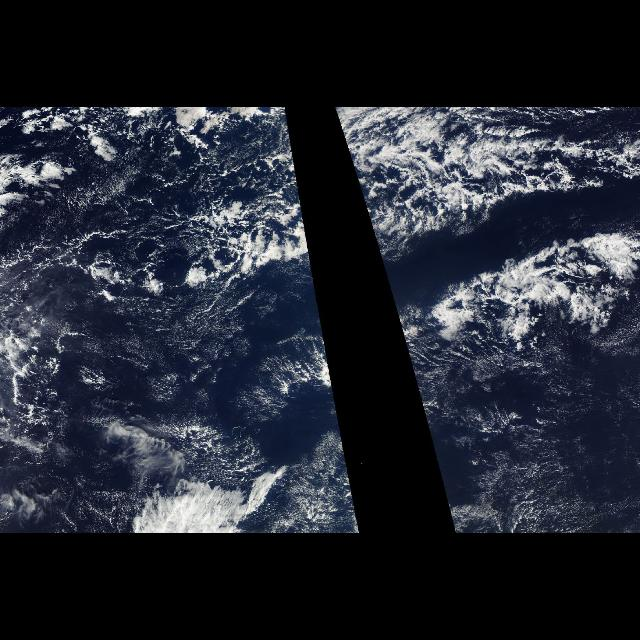Fish: (344, 136, 634, 380), (166, 136, 314, 270), (327, 348, 331, 379)
Sugar: (12, 291, 360, 531), (407, 358, 639, 534)
